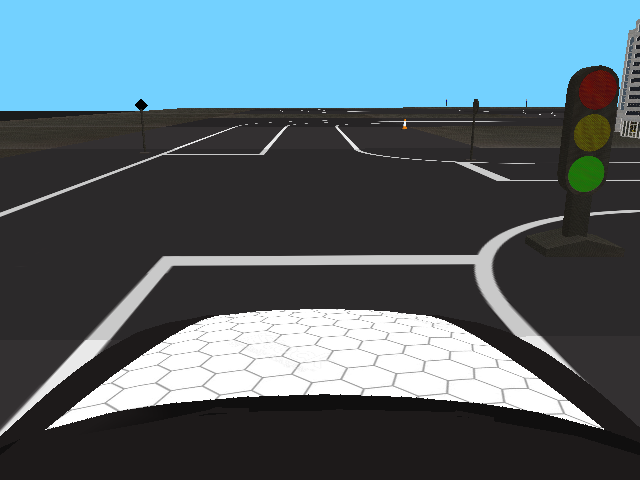green_light: (557, 64, 620, 194)
